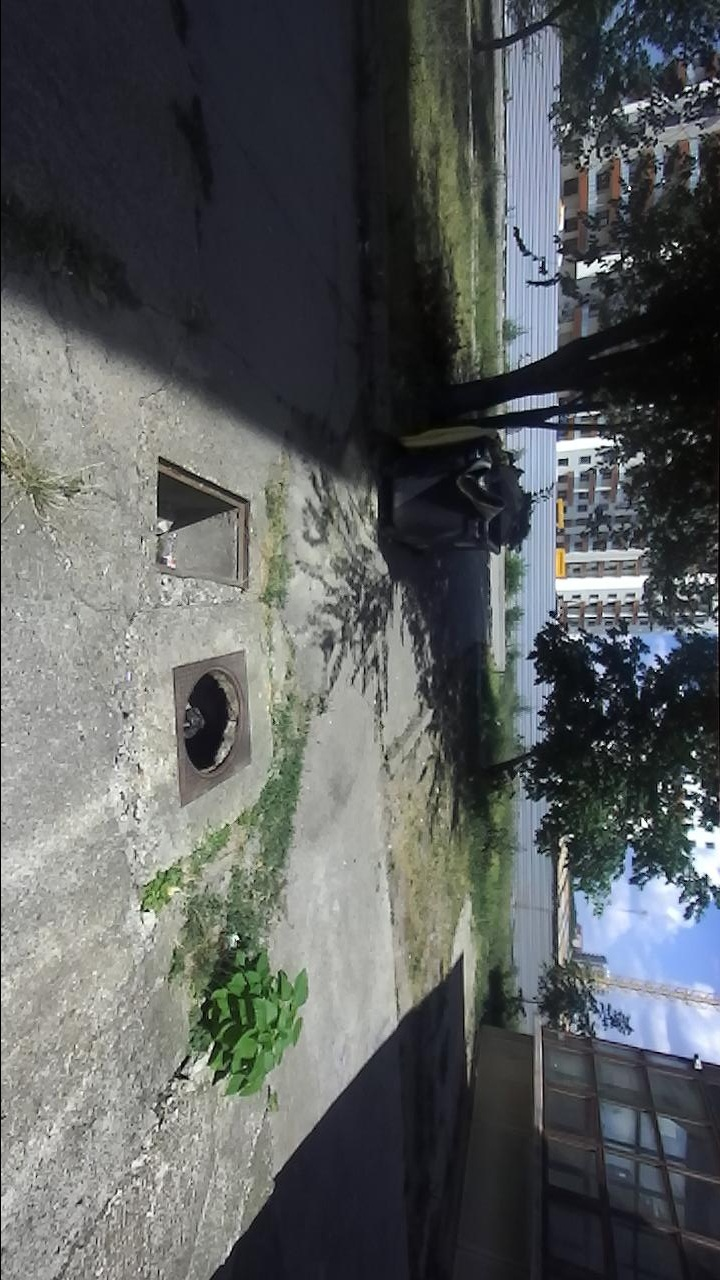drain: (151, 447, 254, 595), (179, 661, 247, 787)
